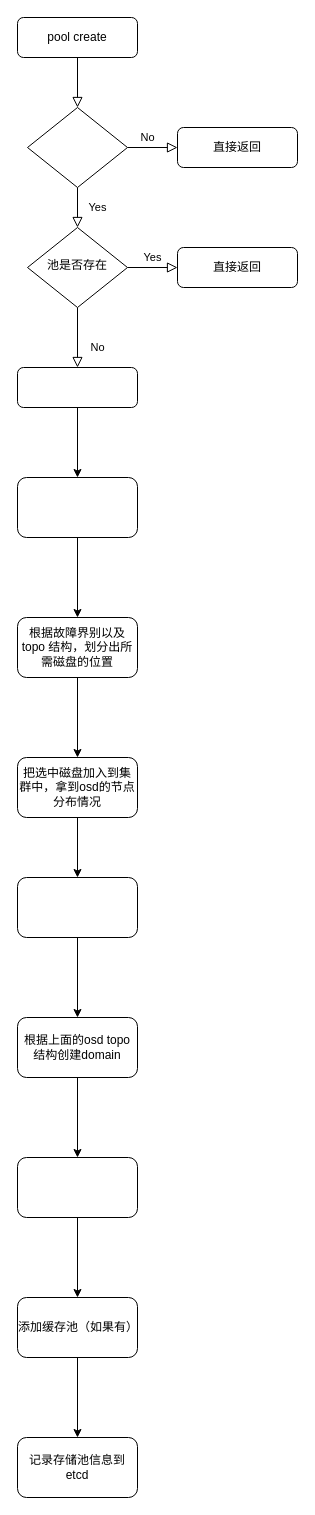
The diagram is 315 pixels wide and 1515 high, and some of its shapes have lost their labels. The centre of each missing label's shape, as x and y in pixels:
创建存储池: [77,1187]
取出所有节点的所有可用磁盘: [77,507]
按照topo 结构以及故障界别，把osd分布到不同位置: [77,907]
校验参数: [77,147]
根据topo名字取出topo结构以及所有的节点名: [77,387]
